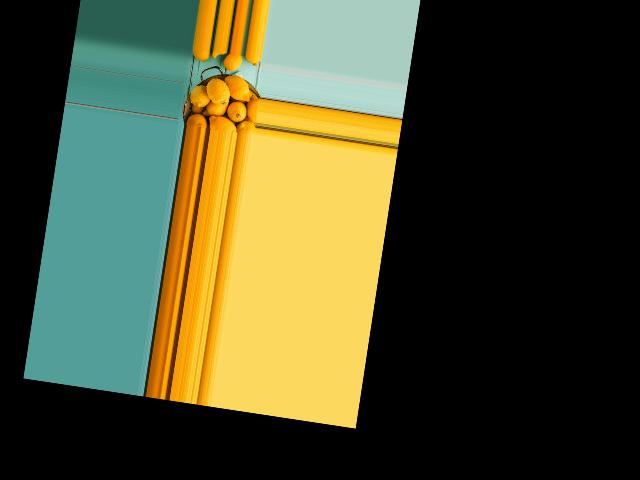lemon: (232, 119, 255, 136)
